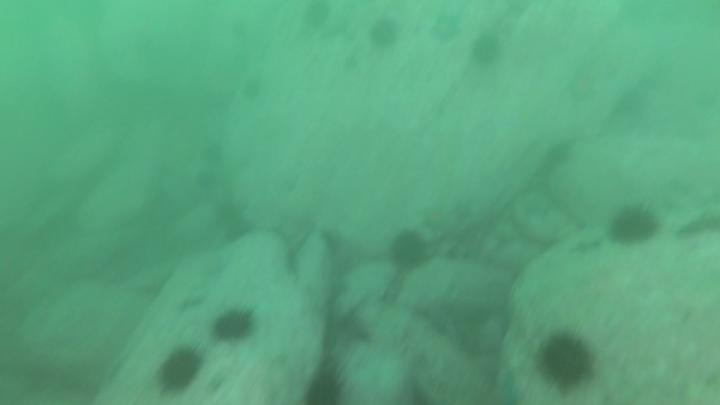echinus: (534, 327, 597, 397), (154, 344, 209, 397), (609, 203, 665, 247), (389, 225, 432, 275), (210, 303, 257, 344), (305, 366, 348, 405), (469, 32, 503, 67), (367, 19, 402, 51), (302, 1, 335, 34), (541, 141, 575, 172), (224, 215, 255, 246), (193, 167, 223, 194), (240, 76, 266, 105), (197, 144, 225, 169)
holothurian: (673, 208, 720, 245)
starfish: (564, 64, 600, 112), (428, 11, 469, 47), (419, 203, 454, 235), (446, 197, 479, 227)
